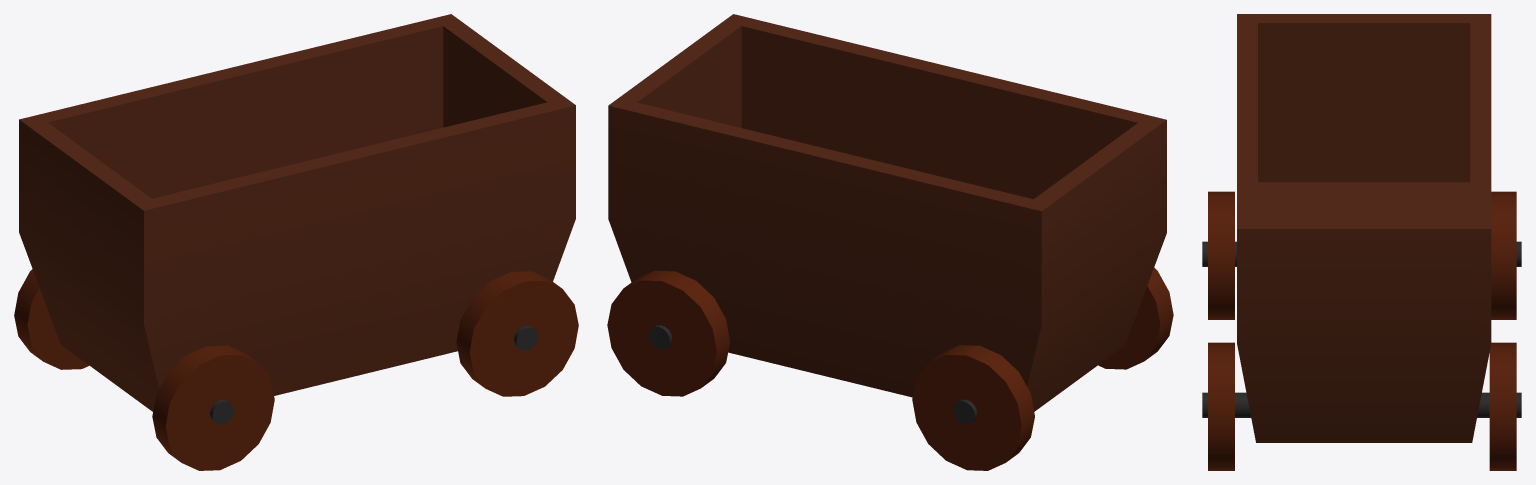
Rendered from Minecart.fbx.
The picture shows the model from 3 angles, left to right: view 1: azimuth 30°, elevation 25°; view 2: azimuth 150°, elevation 25°; view 3: azimuth 270°, elevation 25°; orthographic projection.
Parts seen in each view (by area): view 1: Box001, Cylinder003, Cylinder004, Cylinder006; view 2: Box001, Cylinder006, Cylinder001, Cylinder004; view 3: Box001, Cylinder001, Cylinder004, Cylinder003, Cylinder006, Cylinder002, Cylinder005.
Part boxes in pixels (x1,y1,x2,y2): Box001: (19,14,575,411); Cylinder003: (456,271,578,396); Cylinder004: (152,345,274,470); Cylinder006: (14,269,89,369); Box001: (608,14,1166,411); Cylinder006: (912,345,1034,470); Cylinder001: (607,270,729,396); Cylinder004: (1098,267,1173,369); Box001: (1237,14,1491,442); Cylinder001: (1489,342,1516,470); Cylinder004: (1208,191,1234,319); Cylinder003: (1208,342,1234,470); Cylinder006: (1491,191,1516,319); Cylinder002: (1202,392,1521,417); Cylinder005: (1202,241,1521,266).
Bounding box in the file's own units: 78.74 × 45.99 × 49.42.
